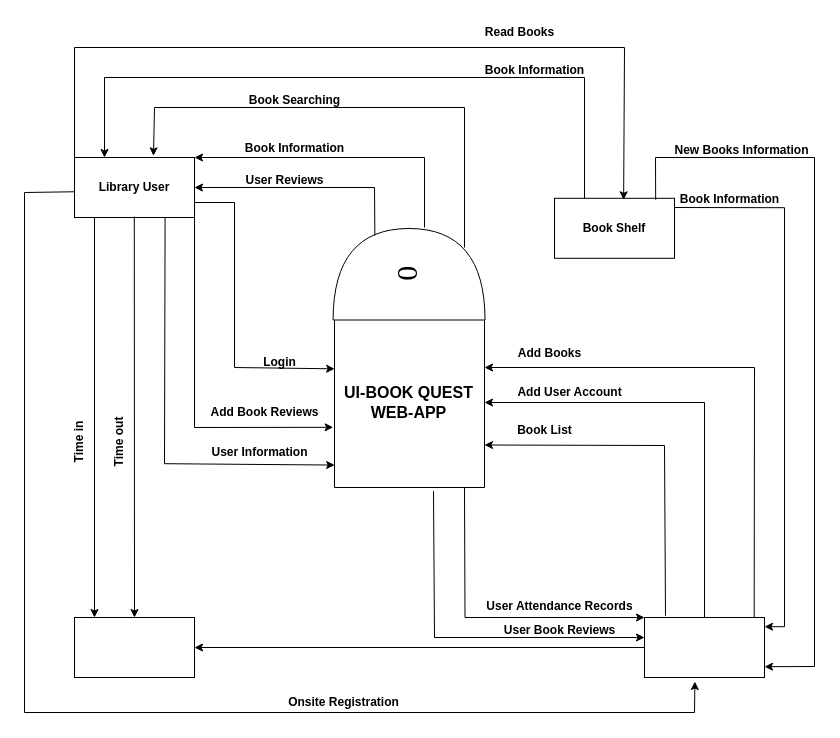
The diagram is 840 pixels wide and 738 high, and some of its shapes have lost their labels. Each missing label, with the centre of its shape:
"Library Administrator" goes at [704,647].
"Library Attendance Counter" goes at [134,647].
